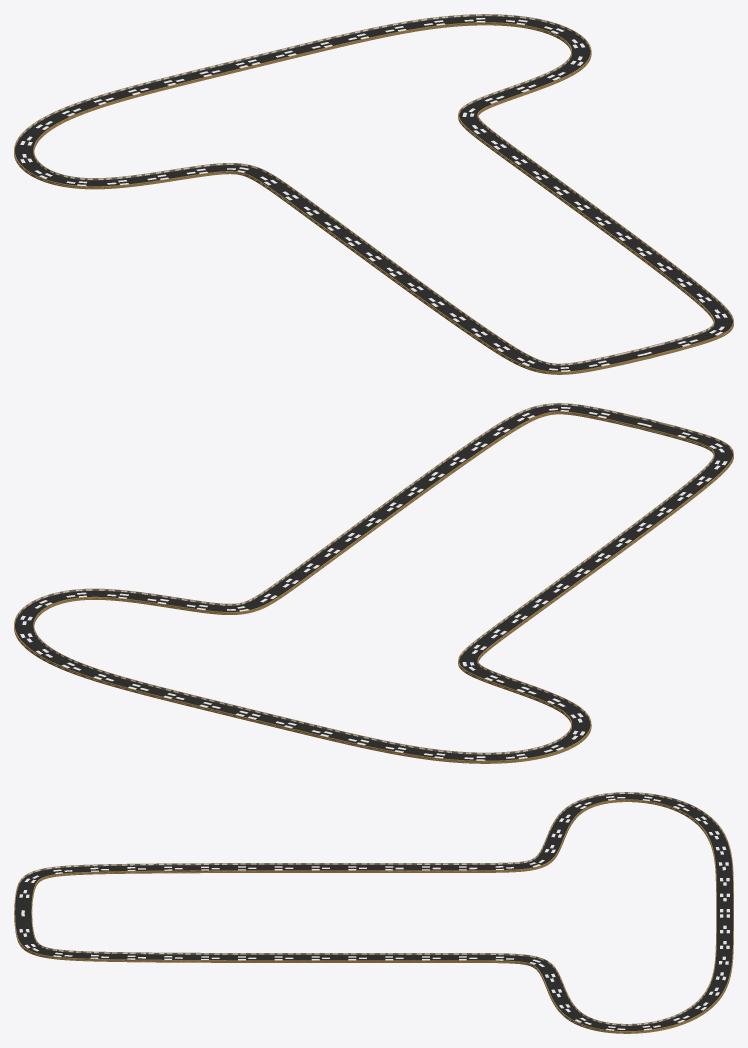
File: route_t.obj
The picture shows the model from 3 angles, top to bottom: view 1: azimuth 30°, elevation 25°; view 2: azimuth 150°, elevation 25°; view 3: azimuth 270°, elevation 25°; orthographic projection. The views are drawn at different scales.
Parts seen in each view (by area): view 1: route_t; view 2: route_t; view 3: route_t.
Part boxes in pixels (box(x1,y1,x2,y2)): route_t: box(14, 14, 733, 374); route_t: box(14, 403, 733, 763); route_t: box(14, 792, 733, 1033).
Bounding box in the file's own units: 465 × 2.15 × 592.
Materials: 1 (1 with a texture image).
